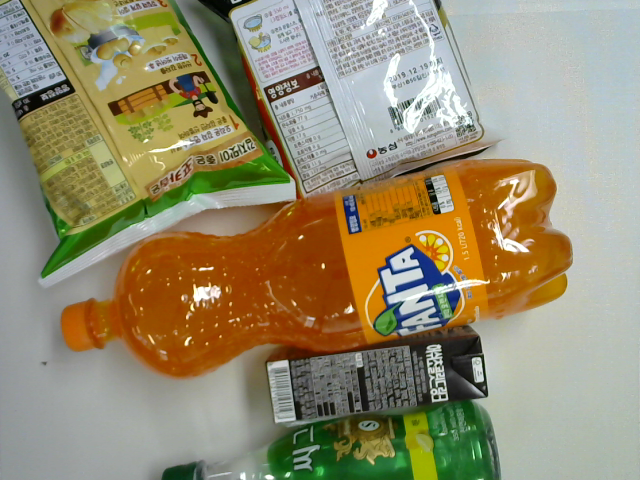Hush_Choco_Drink: (265, 324, 489, 427)
Hwanta_Orange_1.5L: (61, 157, 574, 382)
Pocachip_Onion: (1, 1, 299, 291)
Potato: (197, 1, 506, 204)
Seagram_Lemon_Carbonated_Water: (156, 398, 502, 480)
